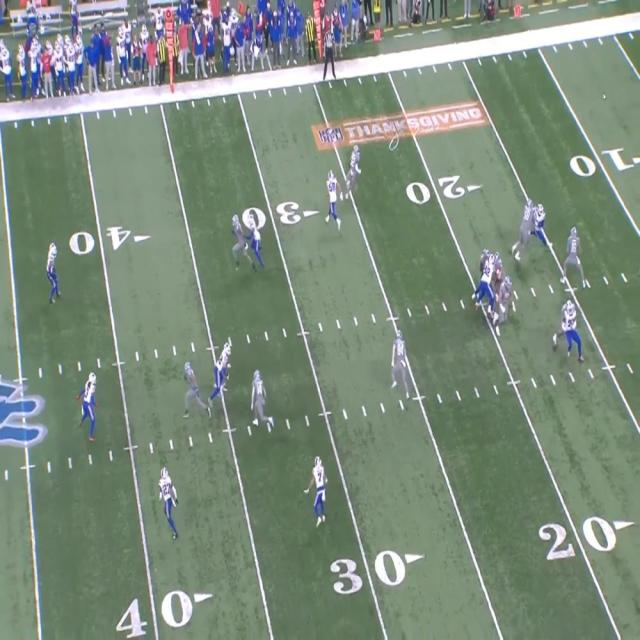db: (159, 465, 177, 535), (247, 213, 266, 266), (568, 223, 583, 286), (313, 452, 326, 521), (83, 373, 96, 437), (49, 242, 61, 302)
lb: (215, 341, 233, 409), (326, 168, 338, 222)
skill: (182, 360, 200, 417), (251, 367, 267, 428), (230, 213, 246, 268), (393, 330, 407, 388), (352, 143, 364, 192)
